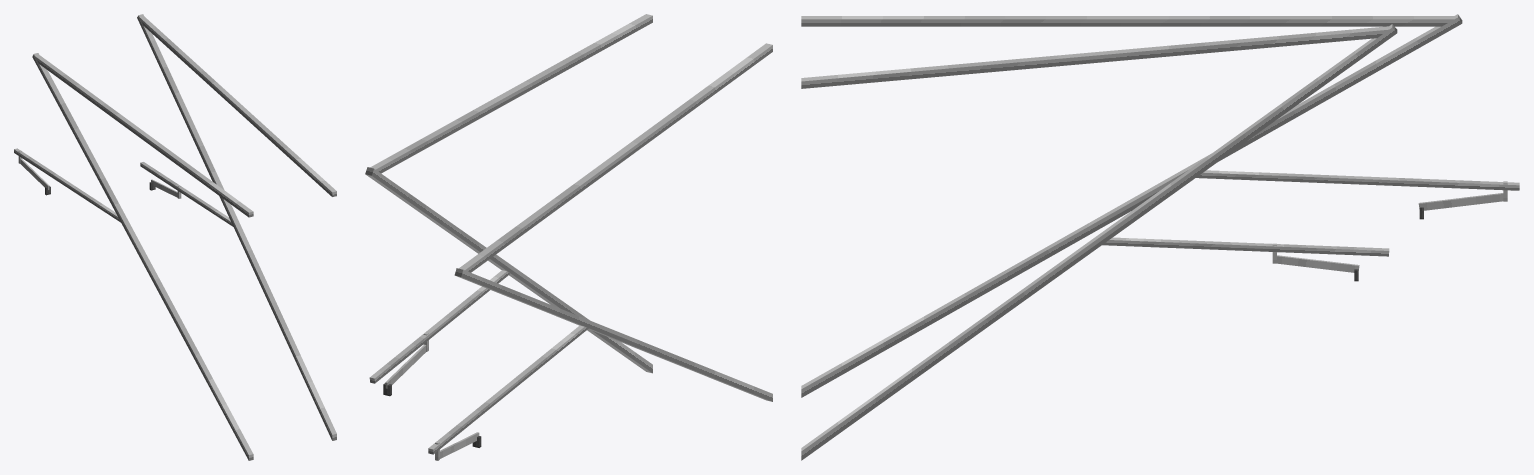
Rendered from cantilever_center_16px.obj.
The picture shows the model from 3 angles, left to right: view 1: azimuth 30°, elevation 25°; view 2: azimuth 150°, elevation 25°; view 3: azimuth 270°, elevation 25°; orthographic projection. The views are drawn at different scales.
Parts seen in each view (by area): view 1: c909986c-17c5-4228-bf21-c892b03ffd96, 43384e70-fd21-41e9-b0a4-61dd8ccc4739, 5140bf26-1efe-42c3-acee-c1715ee79cc5, c42b1234-d3f7-42ea-9d10-66ea8be1b454, 84f5d04b-40ce-433a-9650-1f4d8b02d386, f609251b-d469-4f23-a227-67815151961e; view 2: 5140bf26-1efe-42c3-acee-c1715ee79cc5, c42b1234-d3f7-42ea-9d10-66ea8be1b454, c909986c-17c5-4228-bf21-c892b03ffd96, 43384e70-fd21-41e9-b0a4-61dd8ccc4739, 84f5d04b-40ce-433a-9650-1f4d8b02d386, f609251b-d469-4f23-a227-67815151961e; view 3: 43384e70-fd21-41e9-b0a4-61dd8ccc4739, c909986c-17c5-4228-bf21-c892b03ffd96, 5140bf26-1efe-42c3-acee-c1715ee79cc5, c42b1234-d3f7-42ea-9d10-66ea8be1b454, 84f5d04b-40ce-433a-9650-1f4d8b02d386, f609251b-d469-4f23-a227-67815151961e, e73b7748-7222-4459-a0d2-8ca2ff72dff9, 13743aa3-6ede-4c8d-a9da-456ecc6d381d.
Part boxes in pixels (x1,y1,x2,y2): c909986c-17c5-4228-bf21-c892b03ffd96: (32, 53, 253, 460); 43384e70-fd21-41e9-b0a4-61dd8ccc4739: (137, 14, 336, 440); 5140bf26-1efe-42c3-acee-c1715ee79cc5: (35, 55, 253, 217); c42b1234-d3f7-42ea-9d10-66ea8be1b454: (140, 16, 336, 196); 84f5d04b-40ce-433a-9650-1f4d8b02d386: (14, 148, 120, 222); f609251b-d469-4f23-a227-67815151961e: (140, 162, 233, 226); 5140bf26-1efe-42c3-acee-c1715ee79cc5: (459, 43, 772, 272); c42b1234-d3f7-42ea-9d10-66ea8be1b454: (370, 14, 652, 173); c909986c-17c5-4228-bf21-c892b03ffd96: (454, 268, 772, 401); 43384e70-fd21-41e9-b0a4-61dd8ccc4739: (365, 167, 652, 373); 84f5d04b-40ce-433a-9650-1f4d8b02d386: (428, 325, 588, 454); f609251b-d469-4f23-a227-67815151961e: (369, 270, 509, 383); 43384e70-fd21-41e9-b0a4-61dd8ccc4739: (801, 24, 1397, 460); c909986c-17c5-4228-bf21-c892b03ffd96: (801, 14, 1462, 397); 5140bf26-1efe-42c3-acee-c1715ee79cc5: (801, 16, 1454, 26); c42b1234-d3f7-42ea-9d10-66ea8be1b454: (801, 26, 1388, 88); 84f5d04b-40ce-433a-9650-1f4d8b02d386: (1196, 170, 1519, 190); f609251b-d469-4f23-a227-67815151961e: (1102, 237, 1389, 256); e73b7748-7222-4459-a0d2-8ca2ff72dff9: (1418, 193, 1503, 210); 13743aa3-6ede-4c8d-a9da-456ecc6d381d: (1277, 255, 1359, 272).
Size of the model in its own units: 1.19 by 3.66 by 5.5.
